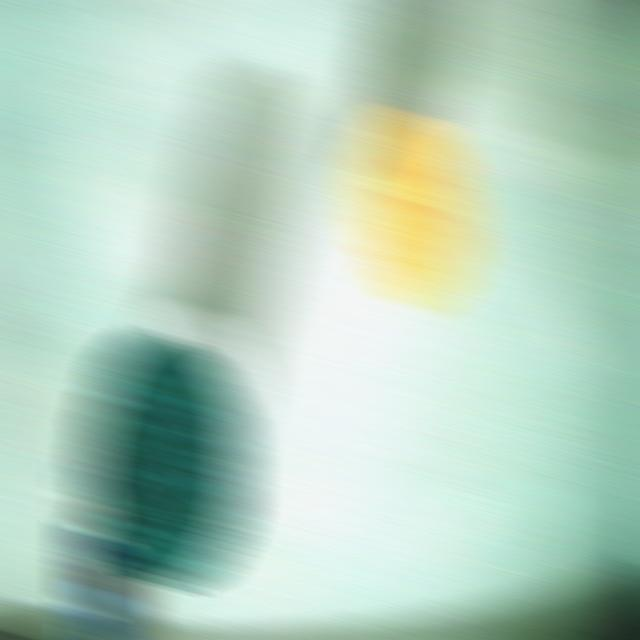green: (80, 334, 247, 587)
yellow: (350, 111, 477, 308)
